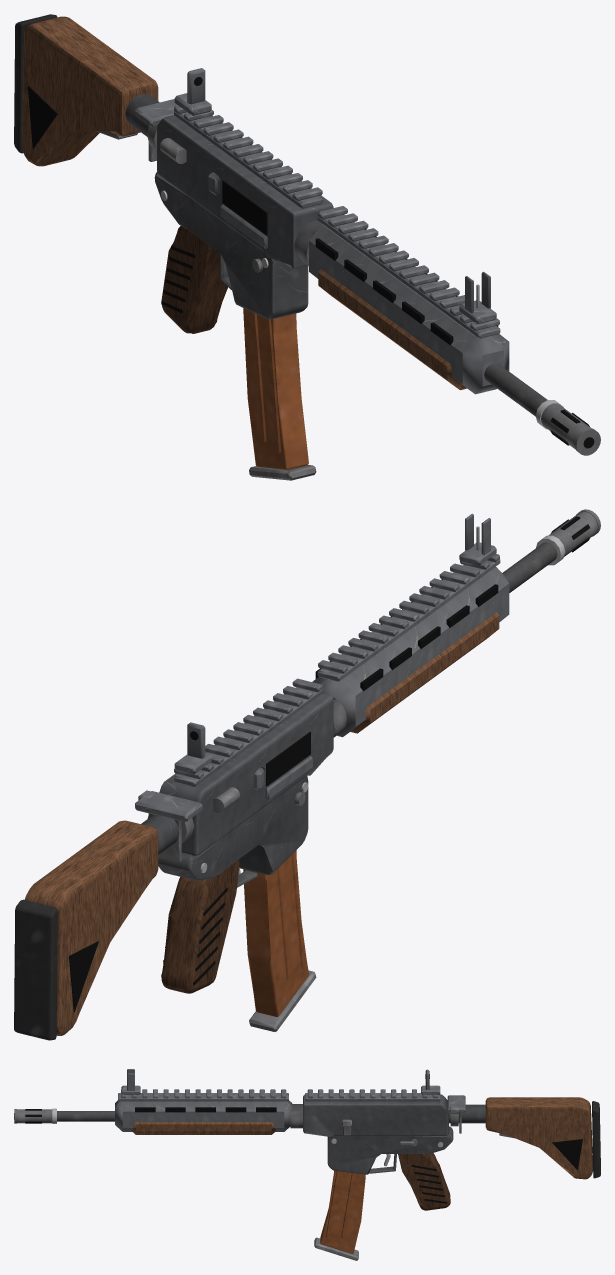
Rendered from vandal.glb.
The picture shows the model from 3 angles, top to bottom: view 1: azimuth 30°, elevation 25°; view 2: azimuth 150°, elevation 25°; view 3: azimuth 270°, elevation 25°; orthographic projection. The views are drawn at different scales.
Visible parts, largest first — view 1: body, mag; view 2: body, mag; view 3: body, mag.
Boxes of the visible parts, box(x1,y1,x2,y2) form: body: box(14, 14, 600, 455); mag: box(243, 308, 316, 480); body: box(14, 509, 600, 1040); mag: box(243, 850, 316, 1031); body: box(14, 1069, 600, 1210); mag: box(314, 1170, 365, 1260).
Size of the model in its own units: 0.0585 by 0.3194 by 0.9104.
Materials: 7 (6 with a texture image).
